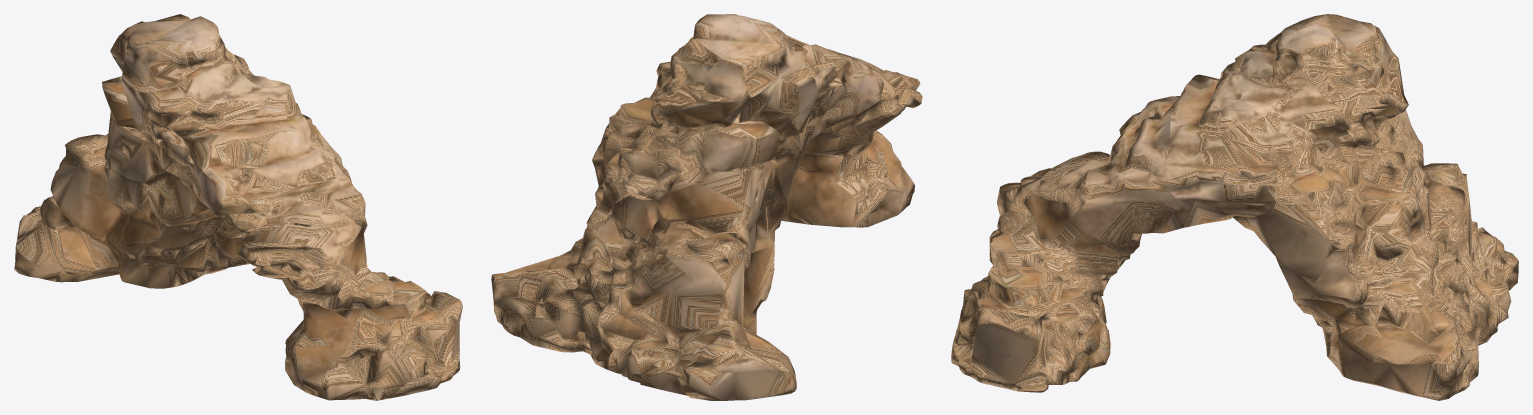
Rendered from rock_slab_a_lod1.glb.
The picture shows the model from 3 angles, left to right: view 1: azimuth 30°, elevation 25°; view 2: azimuth 150°, elevation 25°; view 3: azimuth 270°, elevation 25°; orthographic projection. The views are drawn at different scales.
Parts seen in each view (by area): view 1: model.011; view 2: model.011; view 3: model.011.
Part boxes in pixels (left/top/right/bottom): model.011: left=14, top=14, right=462, bottom=400; model.011: left=491, top=14, right=922, bottom=400; model.011: left=951, top=14, right=1518, bottom=400.
Bounding box in the file's own units: 1.15 × 1.06 × 1.9.
Materials: 1 (1 with a texture image).
